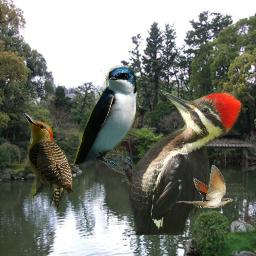Cuckoo: (171, 165, 233, 208)
Swallow: (74, 65, 141, 170)
Woodpecker: (108, 89, 241, 235), (23, 113, 73, 210)
